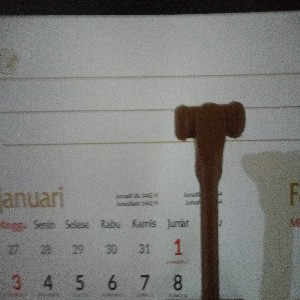palu: (174, 99, 247, 300)
